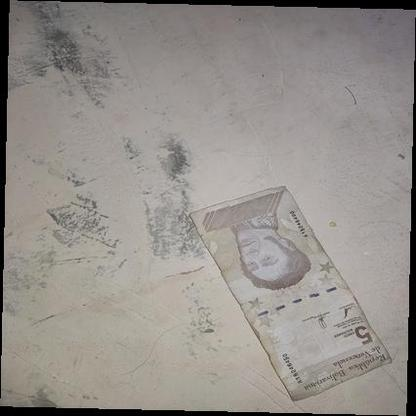five-front-vef: (188, 184, 392, 402)
